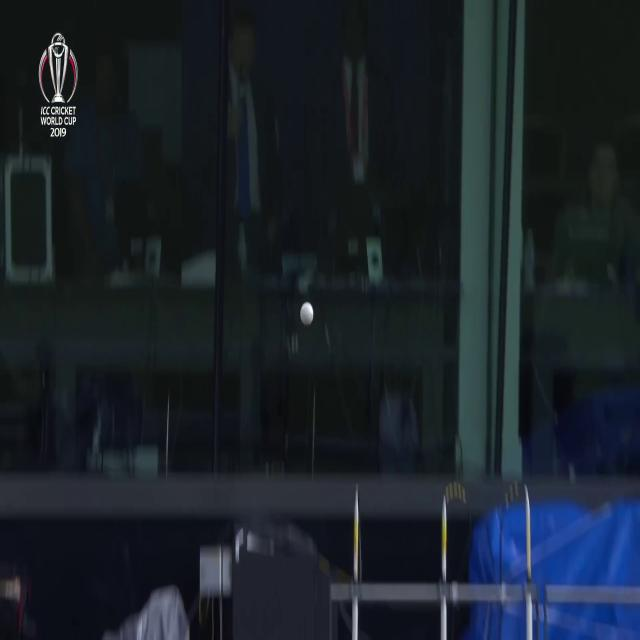ball: (294, 295, 318, 334)
